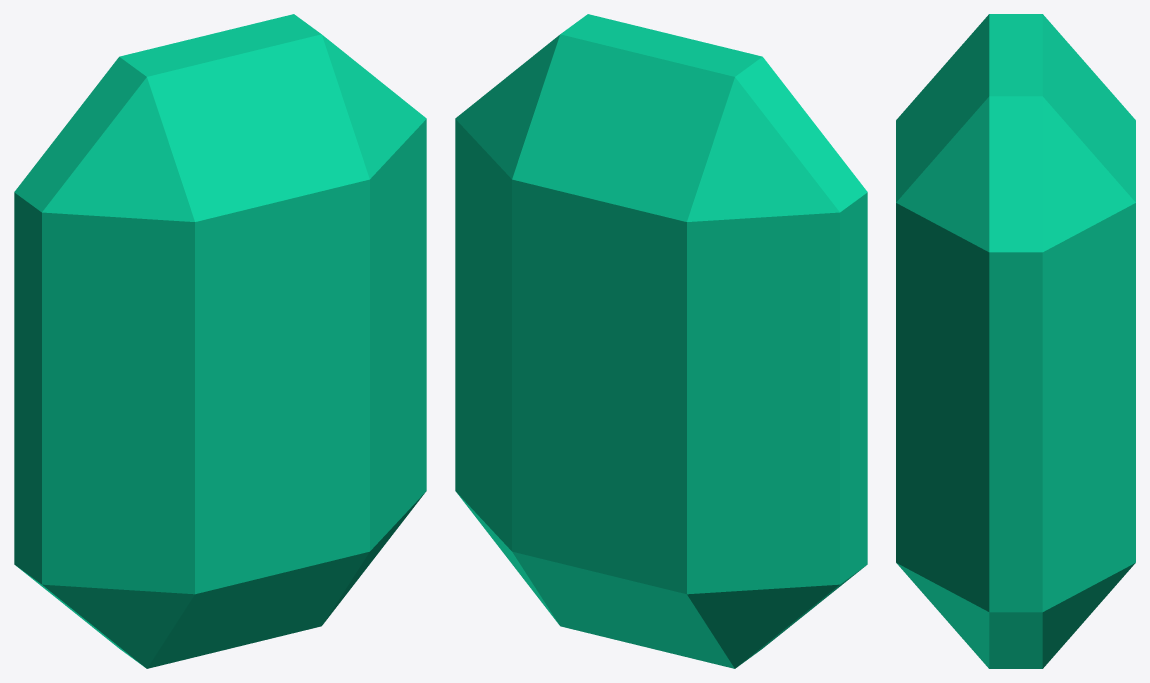
The model's file is Emerald.fbx.
3 renders of one model, left to right at view 1: azimuth 30°, elevation 25°; view 2: azimuth 150°, elevation 25°; view 3: azimuth 270°, elevation 25°, orthographic. The views are drawn at different scales.
Visible parts, largest first — view 1: Emerald; view 2: Emerald; view 3: Emerald.
Boxes of the visible parts, <box> form: Emerald: <box>14,14,426,668</box>; Emerald: <box>455,14,867,668</box>; Emerald: <box>896,14,1135,668</box>.
Size of the model in its own units: 23.94 by 35.19 by 13.37.
